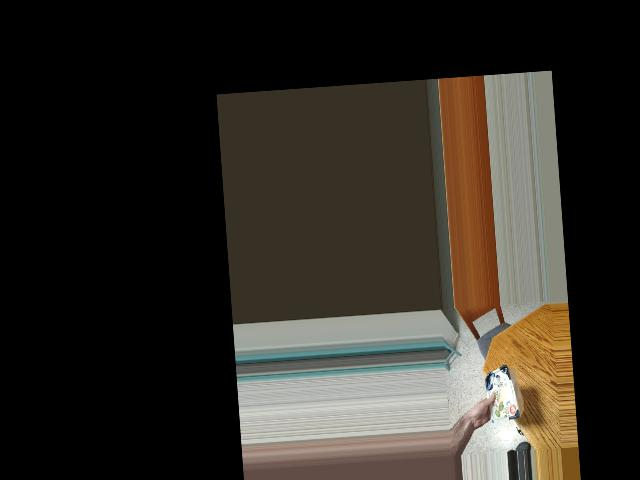cheese: (478, 367, 521, 421)
